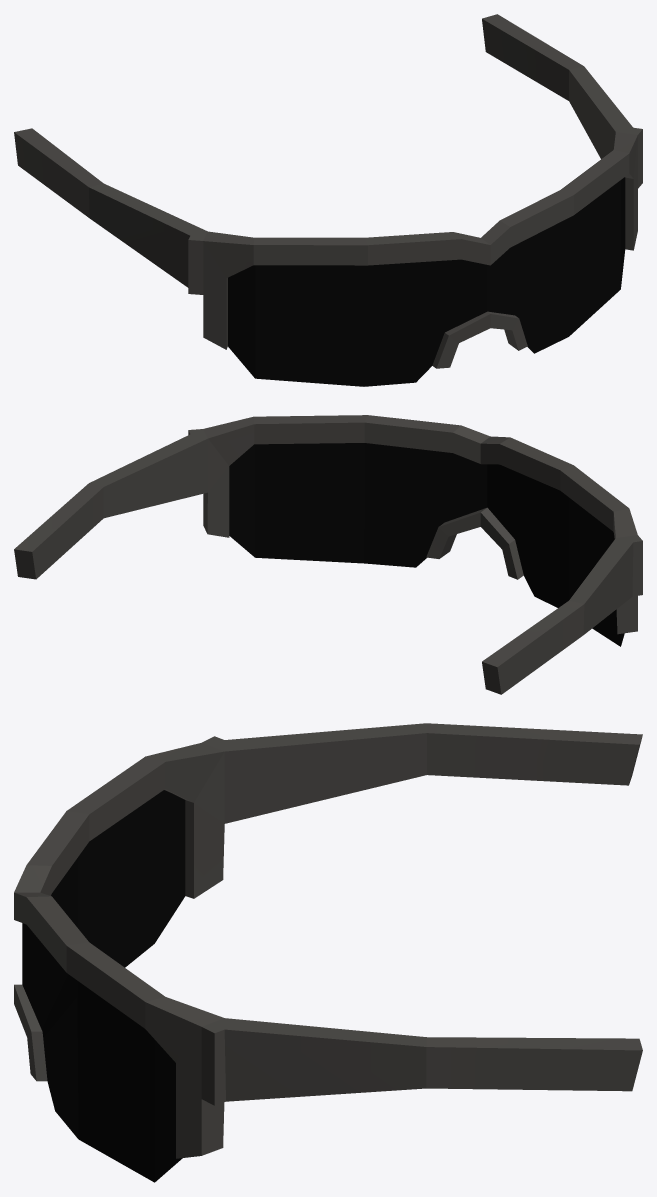
The model's file is Glasses_01_SM.FBX.
The picture shows the model from 3 angles, top to bottom: view 1: azimuth 30°, elevation 25°; view 2: azimuth 150°, elevation 25°; view 3: azimuth 270°, elevation 25°; orthographic projection. The views are drawn at different scales.
Visible parts, largest first — view 1: Glasses_01_SM; view 2: Glasses_01_SM; view 3: Glasses_01_SM.
Part boxes in pixels (x1,y1,x2,y2): Glasses_01_SM: (14, 14, 642, 386); Glasses_01_SM: (14, 415, 642, 694); Glasses_01_SM: (14, 723, 642, 1182).
Size of what is drawn, in the model's own units: 19.62 by 16.1 by 5.49.
